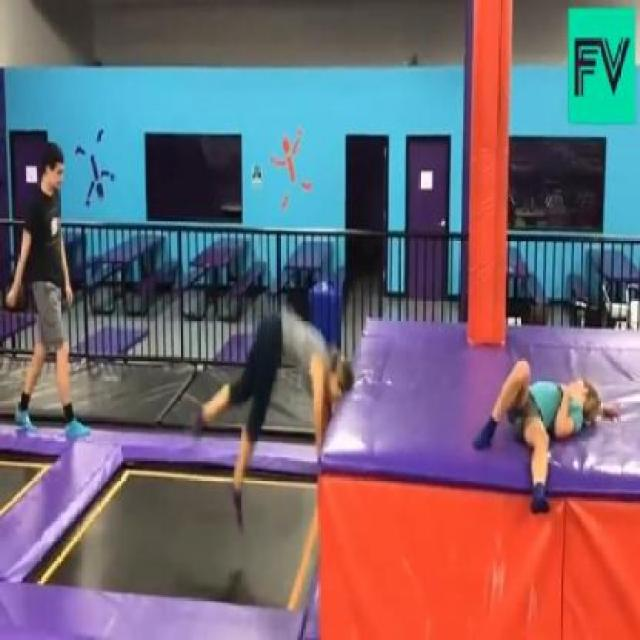fall: (192, 312, 350, 532), (477, 354, 612, 518)
